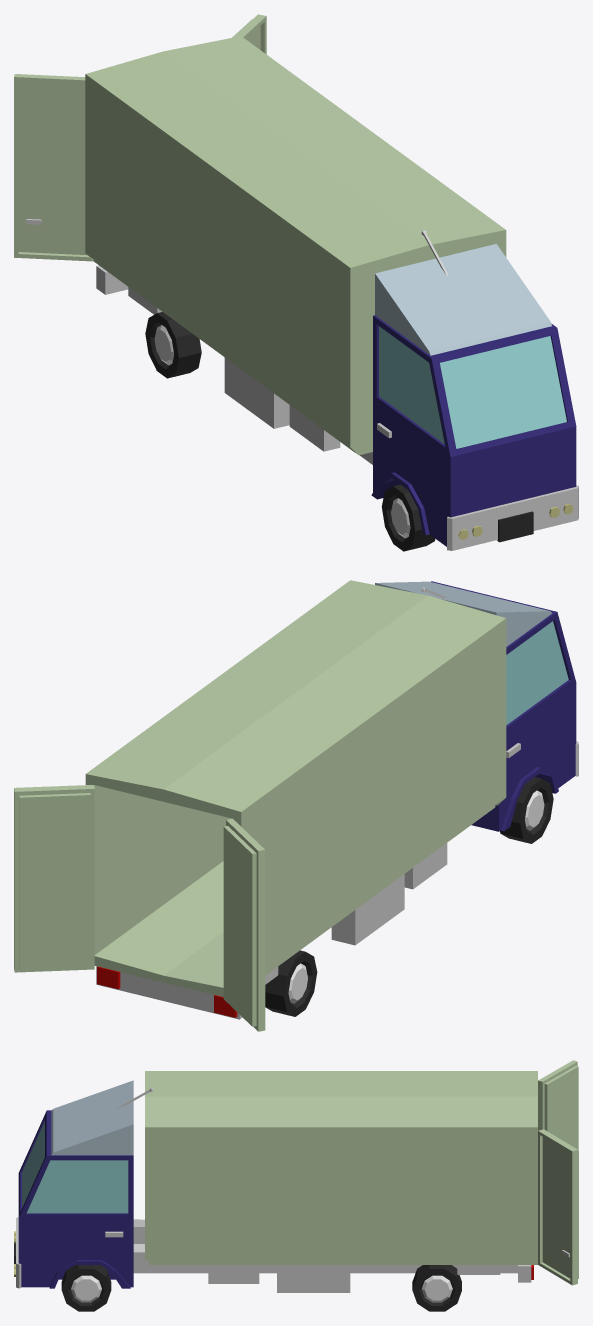
The model's file is Car3_doorsOpen.fbx.
3 views of the same model, one above another, from view 1: azimuth 30°, elevation 25°; view 2: azimuth 150°, elevation 25°; view 3: azimuth 270°, elevation 25° (orthographic). The views are drawn at different scales.
Parts seen in each view (by area): view 1: Cube.004, Cube.002, Cube.005, Cylinder.002, Cylinder.003, Cube.003; view 2: Cube.004, Cube.003, Cube.002, Cube.005, Cylinder.002, Cylinder.003; view 3: Cube.004, Cube.002, Cube.003, Cube.005, Cylinder, Cylinder.001.
Boxes of the visible parts, left/top/right/bottom form: Cube.004: left=85, top=36, right=506, bottom=464; Cube.002: left=371, top=244, right=578, bottom=550; Cube.005: left=14, top=74, right=93, bottom=261; Cylinder.002: left=145, top=312, right=201, bottom=378; Cylinder.003: left=381, top=484, right=435, bottom=551; Cube.003: left=232, top=14, right=266, bottom=54; Cube.004: left=85, top=580, right=506, bottom=1019; Cube.003: left=14, top=785, right=94, bottom=972; Cube.002: left=375, top=581, right=578, bottom=831; Cube.005: left=223, top=819, right=265, bottom=1031; Cylinder.002: left=265, top=950, right=317, bottom=1016; Cylinder.003: left=500, top=777, right=553, bottom=843; Cube.004: left=133, top=1071, right=537, bottom=1292; Cube.002: left=14, top=1080, right=133, bottom=1288; Cube.003: left=538, top=1129, right=578, bottom=1285; Cube.005: left=538, top=1060, right=578, bottom=1150; Cylinder: left=61, top=1265, right=111, bottom=1311; Cylinder.001: left=412, top=1265, right=461, bottom=1311.
Bounding box in the file's own units: 163 × 166 × 428.
